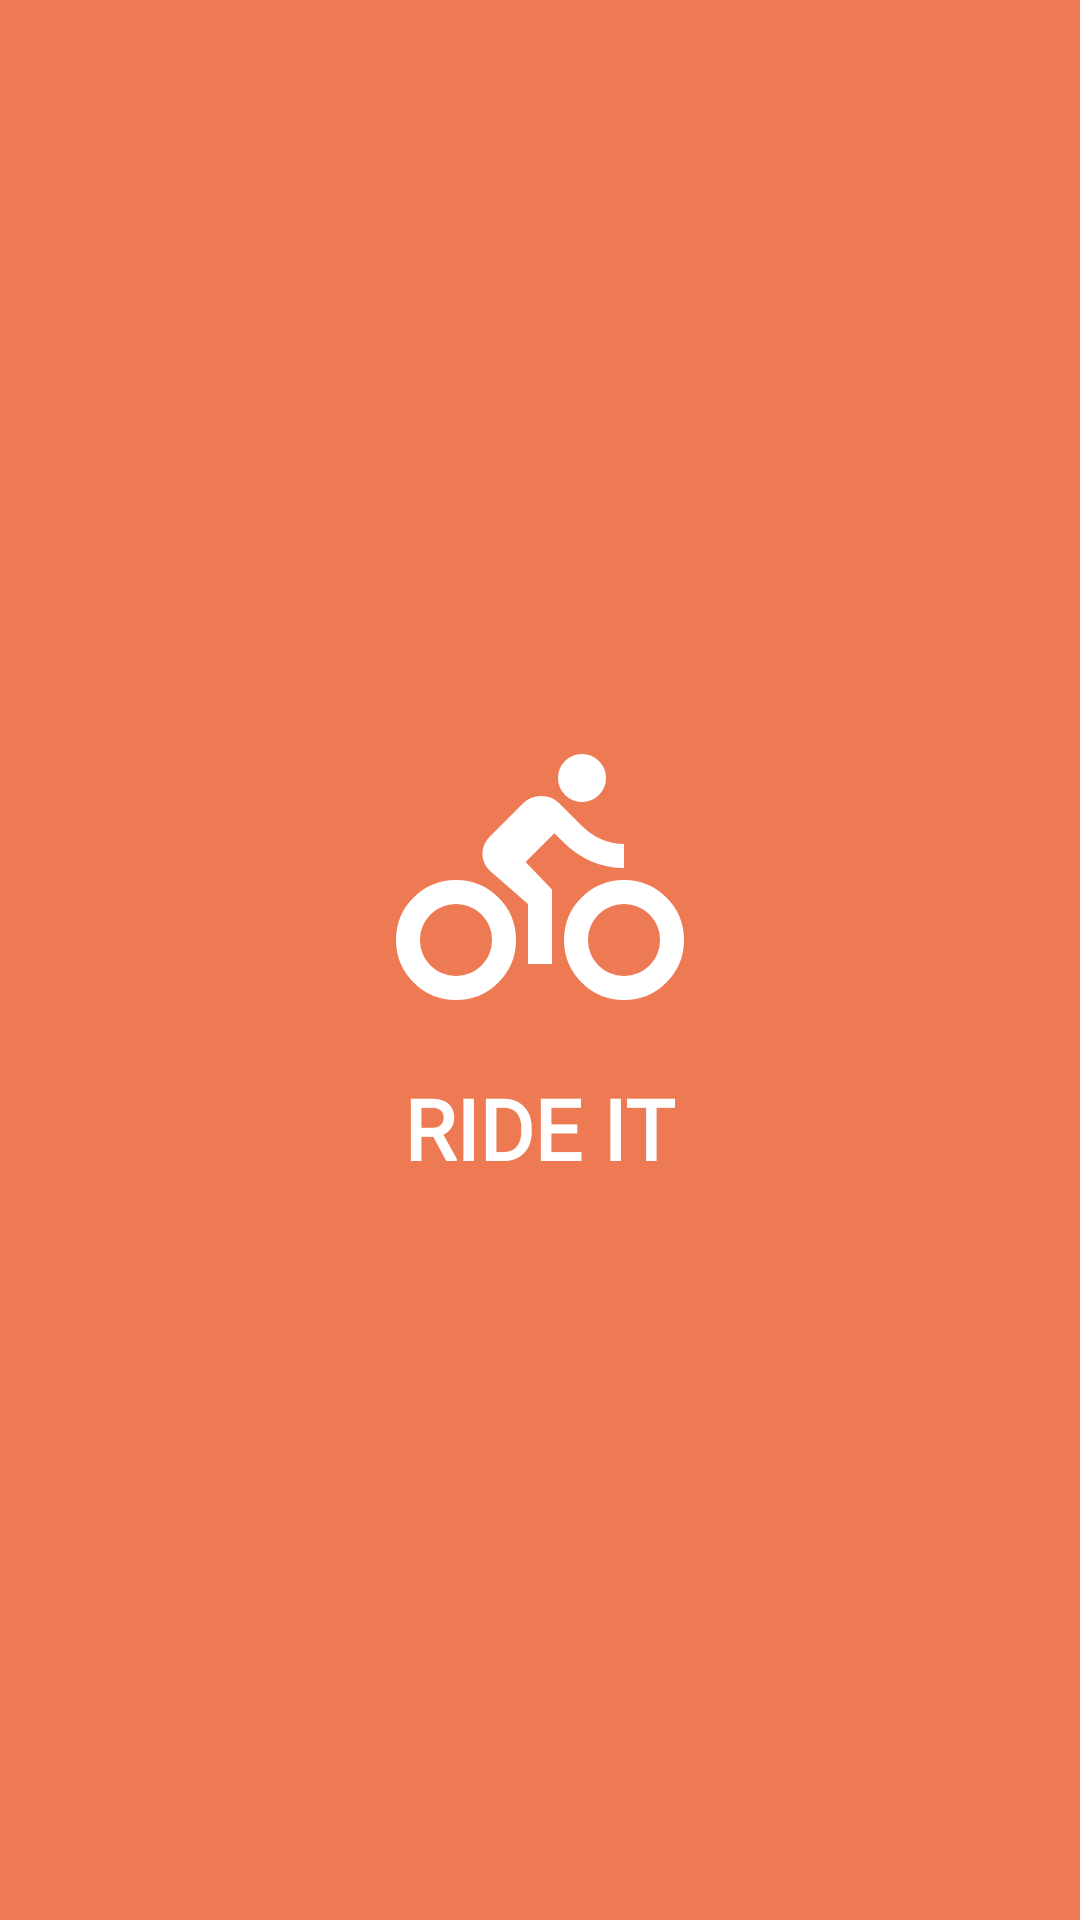

Icon bounding boxes for this 1080*1920 phone screenshot, format bbox=(x1, y1, x2, y2):
Bike Icon: bbox=(396, 754, 684, 1000)
